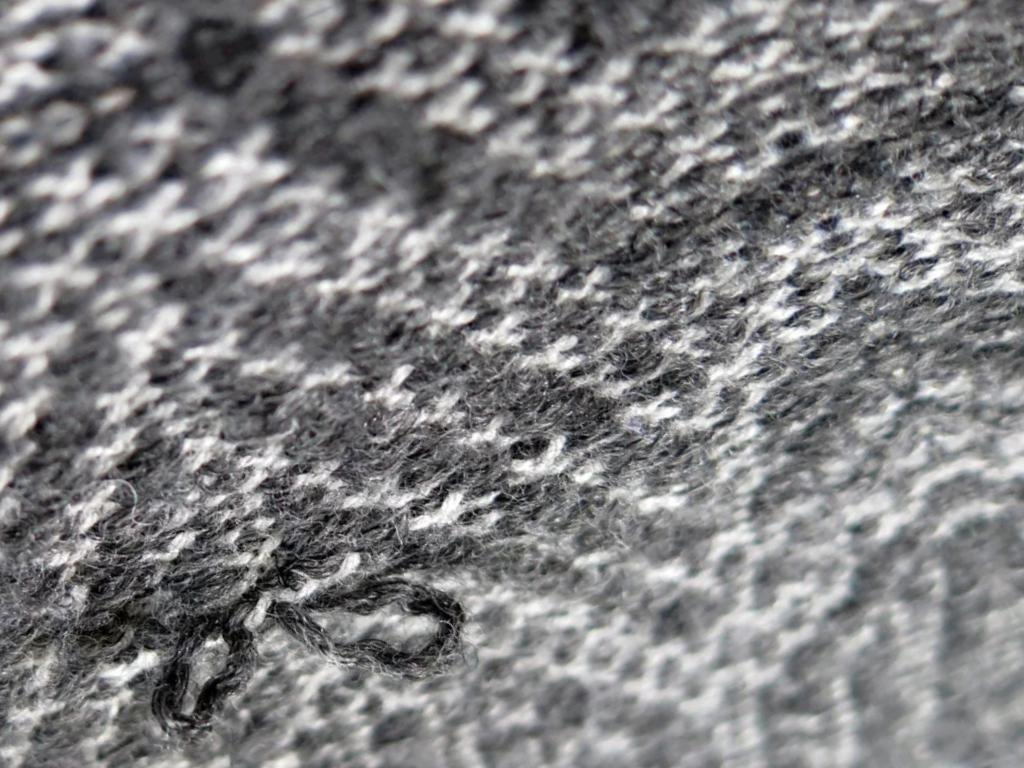snag: (272, 580, 512, 688), (146, 606, 265, 745)
